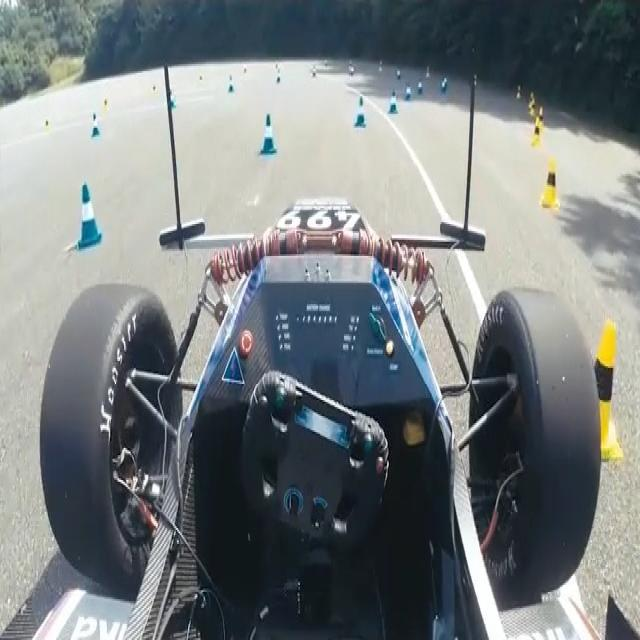blue_cone: (78, 182, 103, 250), (260, 113, 278, 157), (354, 96, 367, 128), (388, 89, 399, 115), (92, 113, 100, 138)
yellow_cone: (577, 317, 624, 461), (539, 160, 561, 211), (530, 118, 542, 147)
